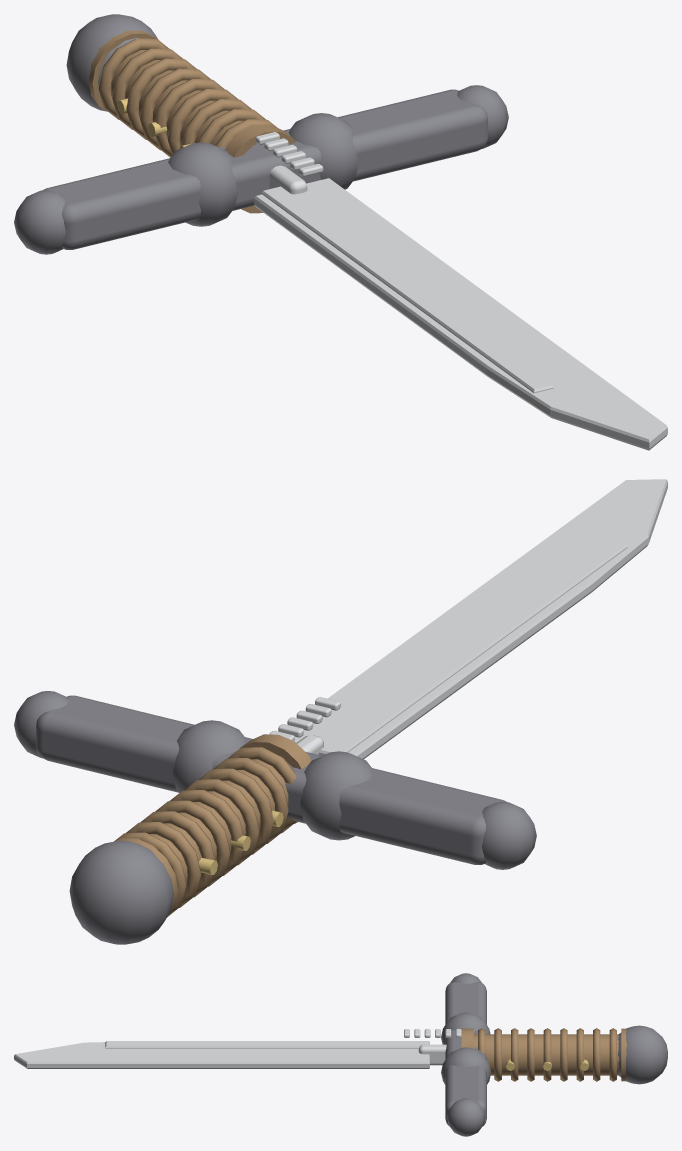
File: bollock-dagger.glb
The picture shows the model from 3 angles, top to bottom: view 1: azimuth 30°, elevation 25°; view 2: azimuth 150°, elevation 25°; view 3: azimuth 270°, elevation 25°; orthographic projection. The views are drawn at different scales.
Visible parts, largest first — view 1: bollock-dagger; view 2: bollock-dagger; view 3: bollock-dagger.
Boxes of the visible parts, left/top/right/bottom form: bollock-dagger: left=14, top=14, right=667, bottom=450; bollock-dagger: left=14, top=479, right=667, bottom=944; bollock-dagger: left=14, top=973, right=667, bottom=1136.
Size of the model in its own units: 0.226 by 0.04 by 0.4422.
